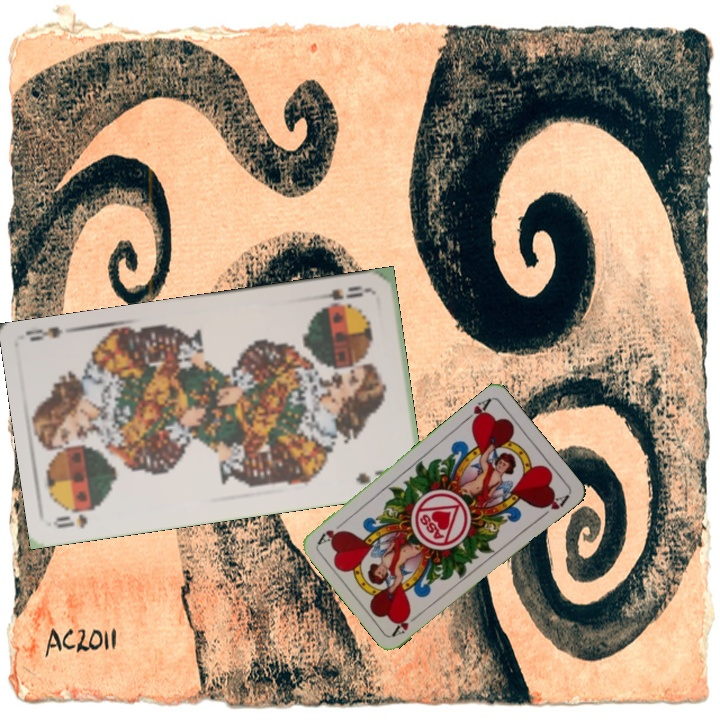HA: (460, 394, 494, 428), (389, 608, 424, 639)
SO: (311, 281, 371, 303), (51, 510, 90, 531)
